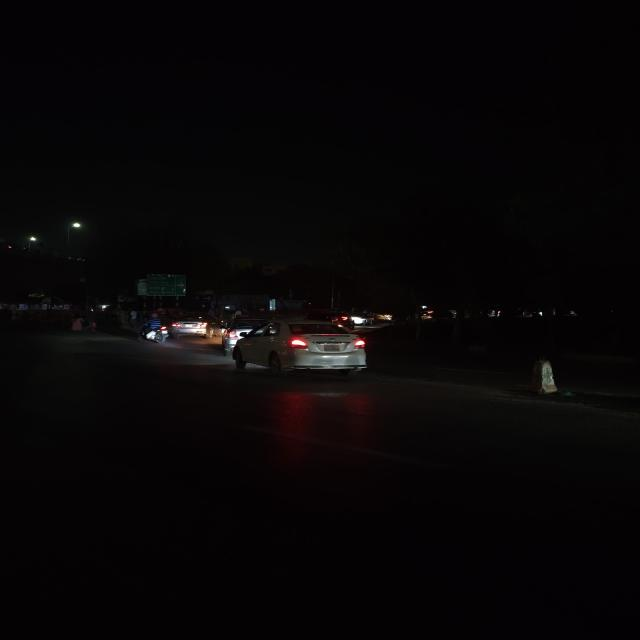car: (227, 317, 371, 381), (170, 315, 212, 339)
motorcycle: (136, 314, 173, 346)
